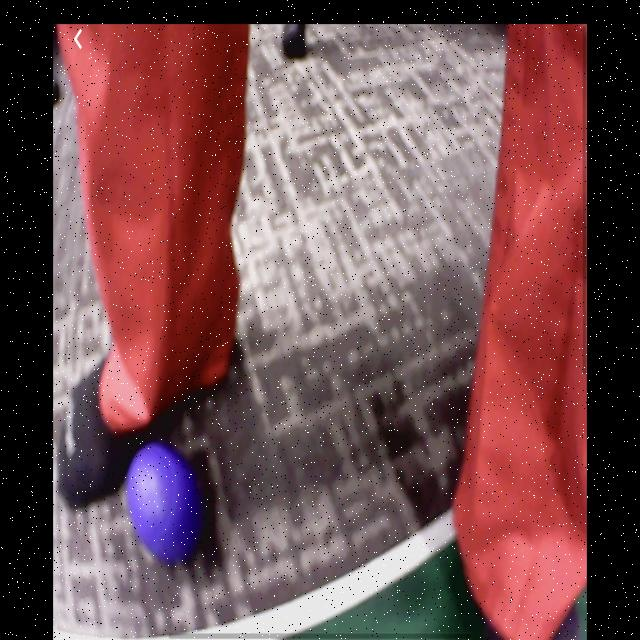ball: (132, 445, 199, 566)
